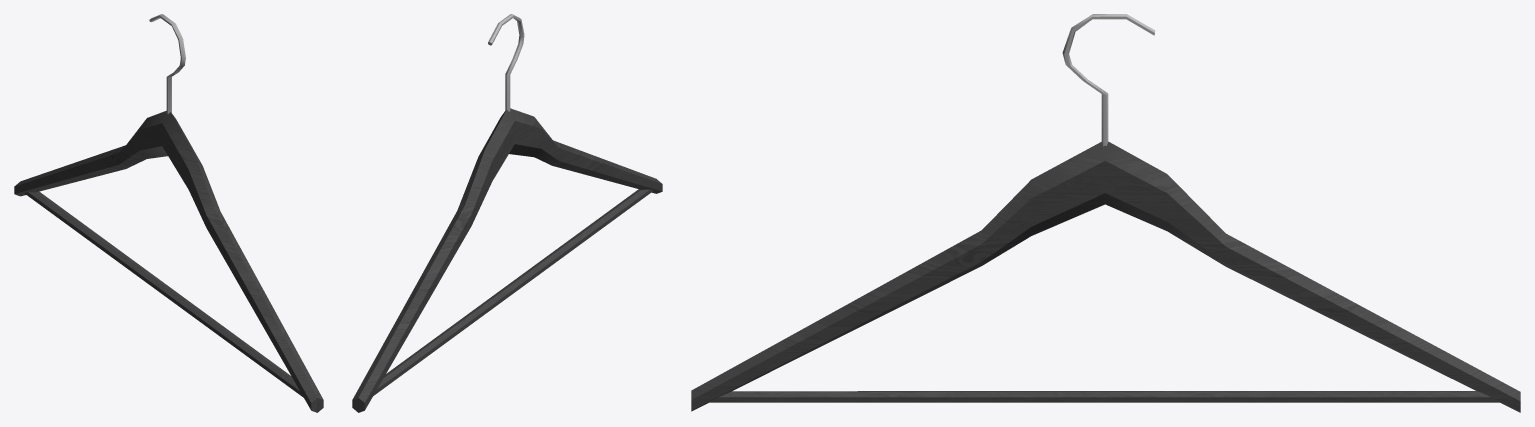
Rendered from Hanger_BlackWood.fbx.
3 views of the same model, side by side, from view 1: azimuth 30°, elevation 25°; view 2: azimuth 150°, elevation 25°; view 3: azimuth 270°, elevation 25° (orthographic). The views are drawn at different scales.
Visible parts, largest first — view 1: pCylinder41; view 2: pCylinder41; view 3: pCylinder41.
Part boxes in pixels (x1=…): pCylinder41: x1=14, y1=14, x2=323, y2=412; pCylinder41: x1=352, y1=14, x2=662, y2=412; pCylinder41: x1=691, y1=14, x2=1520, y2=412.
Bounding box in the file's own units: 0.2342 × 4.48 × 8.44.
